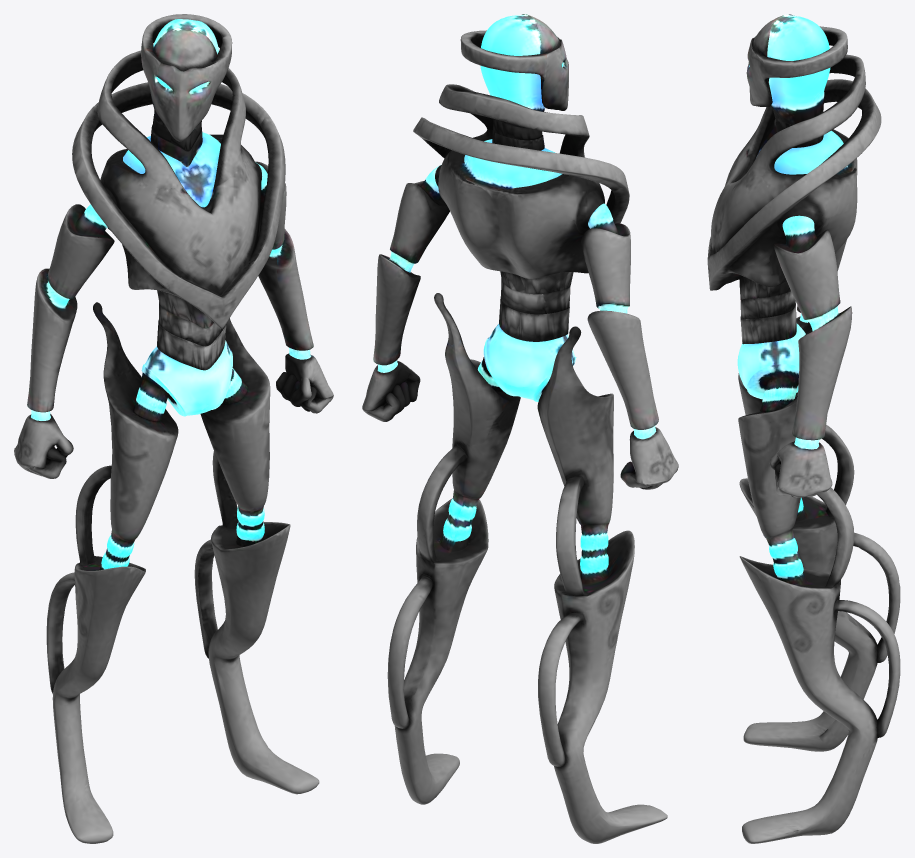
Rendered from MZ4250 - Metallic Peacekeeper.glb.
3 renders of one model, left to right at view 1: azimuth 30°, elevation 25°; view 2: azimuth 150°, elevation 25°; view 3: azimuth 270°, elevation 25°, orthographic.
Visible parts, largest first — view 1: Body.002; view 2: Body.002; view 3: Body.002.
Part boxes in pixels (x1,y1,x2,y2): Body.002: (14, 14, 333, 843); Body.002: (362, 14, 678, 843); Body.002: (707, 14, 900, 843).
Size of the model in its own units: 40.76 by 100 by 22.55.
Materials: 1 (1 with a texture image).
